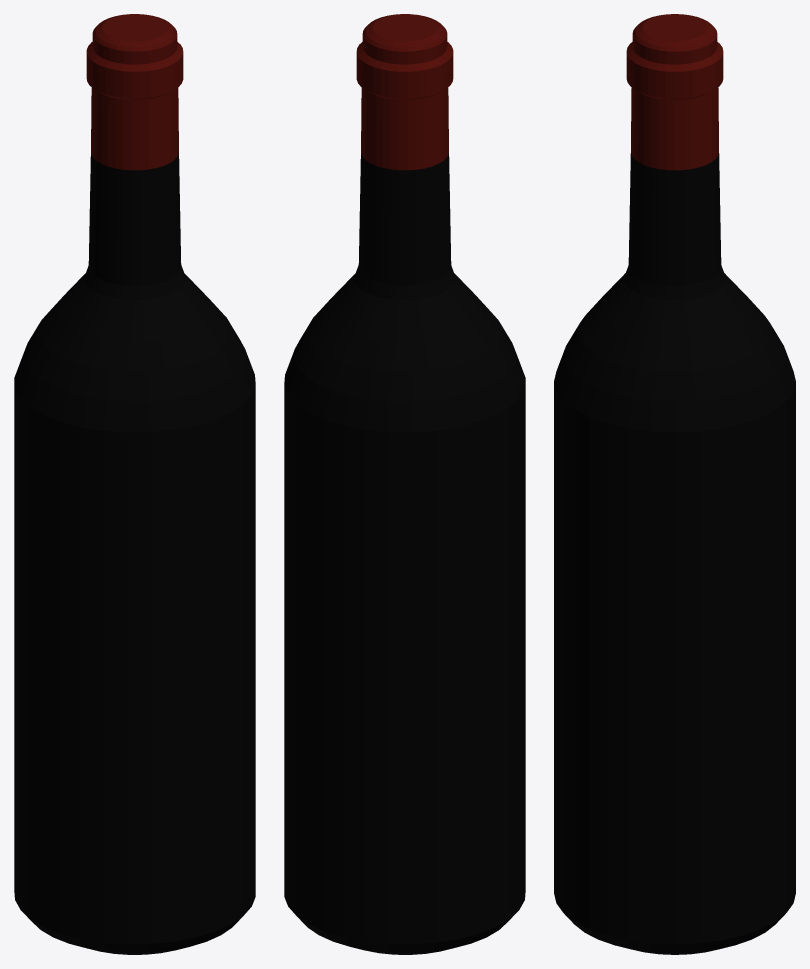
File: Wine_Bottle.fbx
3 views of the same model, side by side, from view 1: azimuth 30°, elevation 25°; view 2: azimuth 150°, elevation 25°; view 3: azimuth 270°, elevation 25° (orthographic).
Visible parts, largest first — view 1: Bottle_Wine; view 2: Bottle_Wine; view 3: Bottle_Wine.
Boxes of the visible parts, x1,y1,x2,y2 form: Bottle_Wine: (14, 14, 255, 954); Bottle_Wine: (284, 14, 525, 954); Bottle_Wine: (554, 14, 795, 954).
Size of the model in its own units: 108 by 439 by 108.
